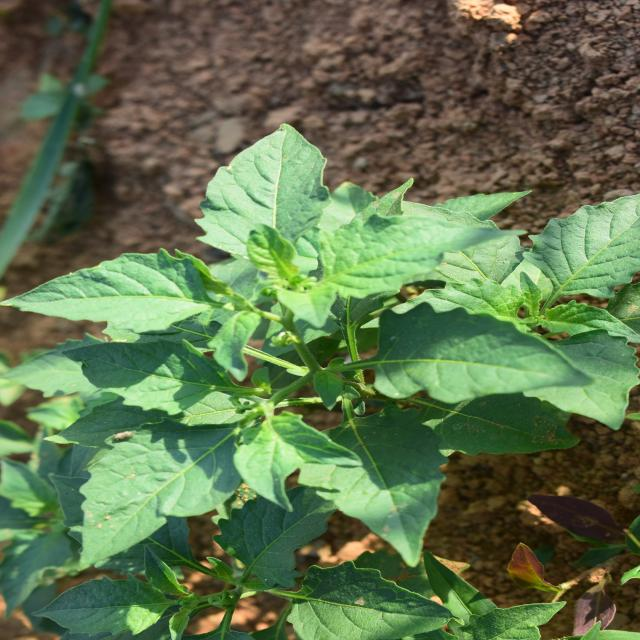Black_nightshade: (107, 0, 475, 614)
